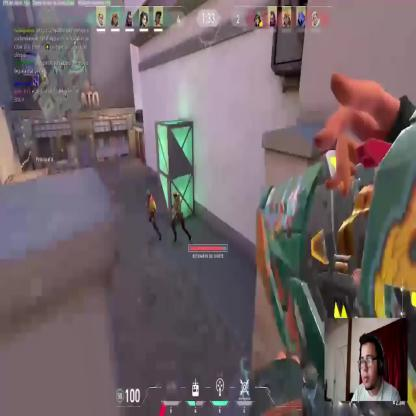enemy: (170, 192, 192, 242), (144, 189, 161, 239)
enemy_head: (172, 192, 178, 202), (146, 188, 151, 198)
